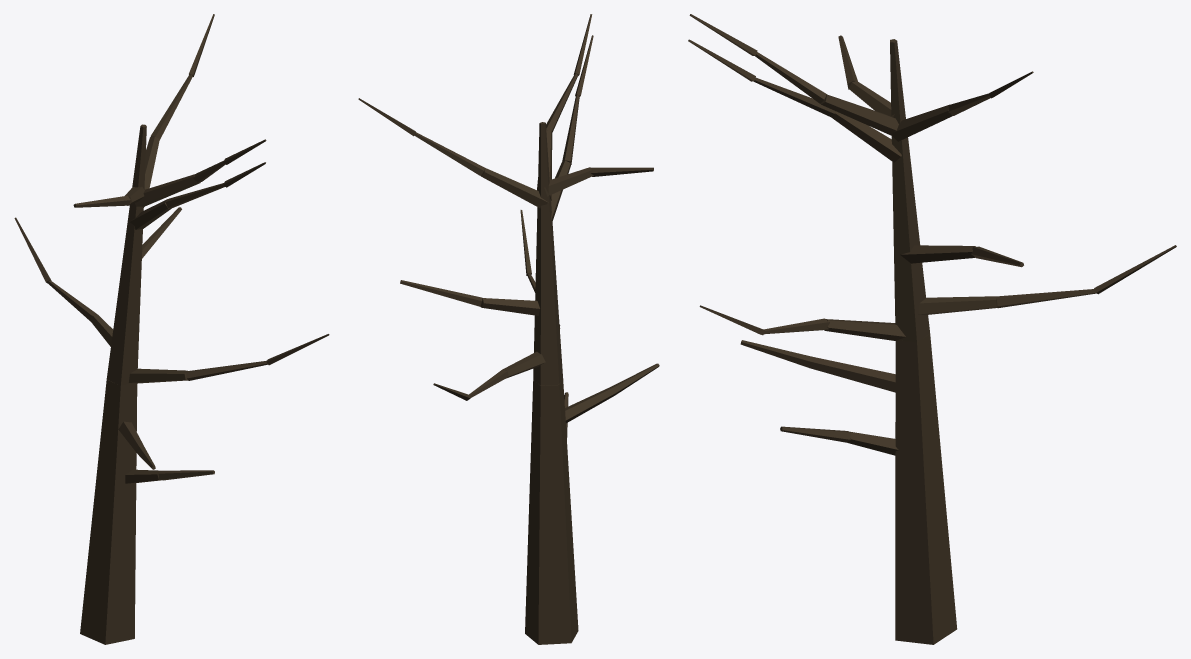
Rendered from tree_dead_2_mid.glb.
3 views of the same model, side by side, from view 1: azimuth 30°, elevation 25°; view 2: azimuth 150°, elevation 25°; view 3: azimuth 270°, elevation 25° (orthographic). The views are drawn at different scales.
Visible parts, largest first — view 1: wood; view 2: wood; view 3: wood.
Part boxes in pixels (x1,y1,x2,y2): wood: [14, 14, 329, 644]; wood: [358, 14, 659, 644]; wood: [688, 14, 1176, 644].
Size of the model in its own units: 3 by 7.14 by 4.85.
